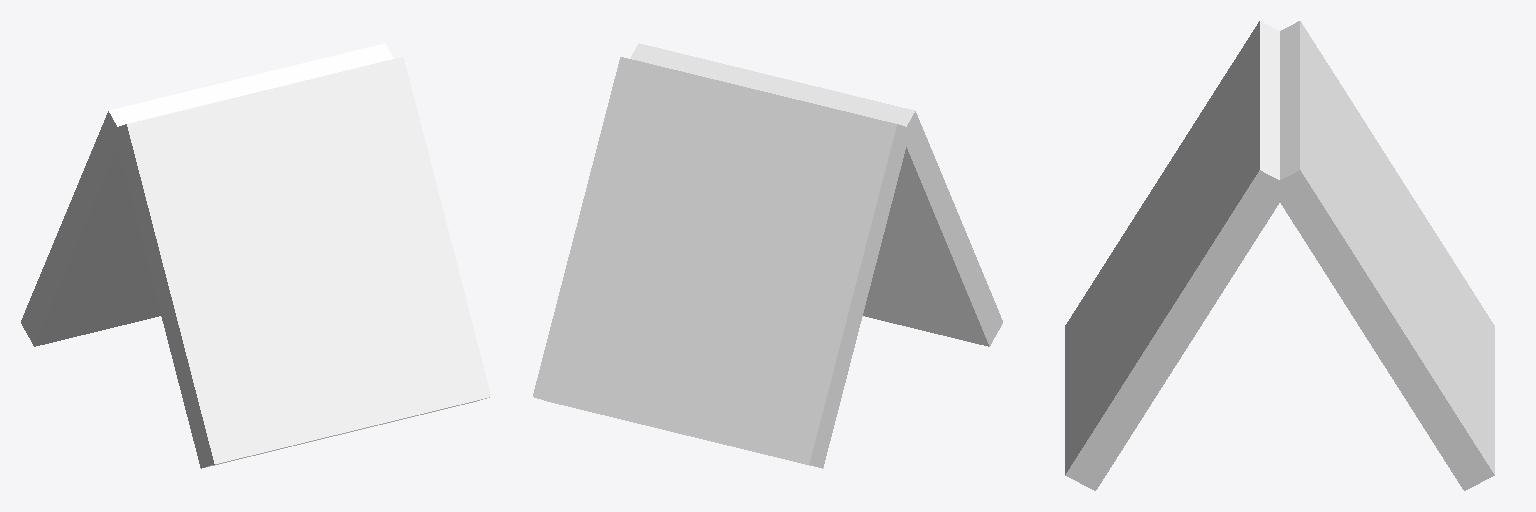
URDF robot description (tabletop):
<robot name="tabletop">
  <link name="base_link">
    <inertial>
      <origin rpy="0 0 0" xyz="0 0 0"/>
      <mass value="1"/>
      <inertia ixx="0.1" ixy="0" ixz="0" iyy="0.1" iyz="0" izz="0.1"/>
    </inertial>

    <visual>
      <origin rpy="-0.5236 0 0" xyz="0 -0.289 0.4"/>
      <geometry>
	 			<box size="1 .1 1.1"/>
      </geometry>
      <material name="tray_material">
        <color rgba="1 1 1 1"/>
      </material>
    </visual>
     <collision>
      <origin rpy="-0.5236 0 0" xyz="0 -0.289 0.4"/>
      <geometry>
	 			<box size="1 .1 1.1"/>
      </geometry>
    </collision>

    <visual>
      <origin rpy="0.5236 0 0" xyz="0 0.289 0.4"/>
      <geometry>
	 			<box size="1 .1 1.1"/>
      </geometry>
      <material name="tray_material">
        <color rgba="1 1 1 1"/>
      </material>
    </visual>
     <collision>
      <origin rpy="0.5236 0 0" xyz="0 0.289 0.4"/>
      <geometry>
	 			<box size="1 .1 1.1"/>
      </geometry>
    </collision>
  </link>
</robot>

--- What the picture shows (computed from the rendered views, not written in the file) ---
Views: 3 orthographic renders of the robot side by side, from view 1: azimuth 30°, elevation 25°; view 2: azimuth 150°, elevation 25°; view 3: azimuth 270°, elevation 25°.
Model tabletop with 1 links and 0 joints (none), rooted at base_link, posed all joints at 0.
Links seen in each view (by area): view 1: base_link; view 2: base_link; view 3: base_link.
Link boxes in pixels (x1,y1,x2,y2): base_link: [21, 43, 490, 468]; base_link: [533, 43, 1002, 468]; base_link: [1065, 21, 1494, 490].
Bounding box of the posed robot: 1 × 1.21 × 1 m (x, y, z).
Geometry: primitives only (box / cylinder / sphere), no mesh files.